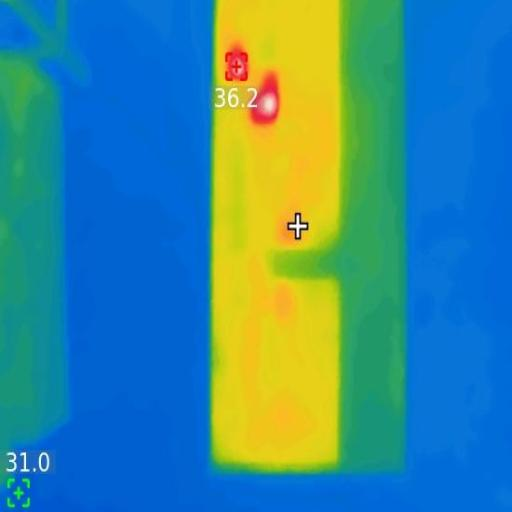hotspot: (255, 86, 280, 121), (226, 54, 250, 81)
